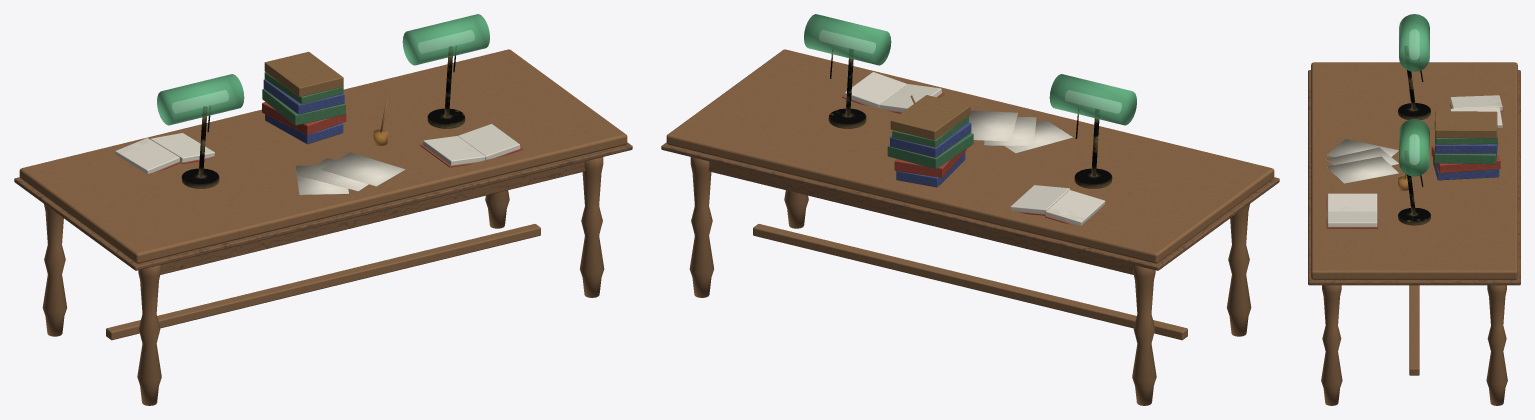
File: mesa_lectura.glb
3 views of the same model, side by side, from view 1: azimuth 30°, elevation 25°; view 2: azimuth 150°, elevation 25°; view 3: azimuth 270°, elevation 25° (orthographic). The views are drawn at different scales.
Parts seen in each view (by area): view 1: mesa_lectura; view 2: mesa_lectura; view 3: mesa_lectura.
Part boxes in pixels (x1,y1,x2,y2): mesa_lectura: [14, 14, 632, 405]; mesa_lectura: [661, 14, 1279, 405]; mesa_lectura: [1308, 14, 1520, 405].
Size of the model in its own units: 2.43 by 1.22 by 1.03.
4 materials, 1 textured.
